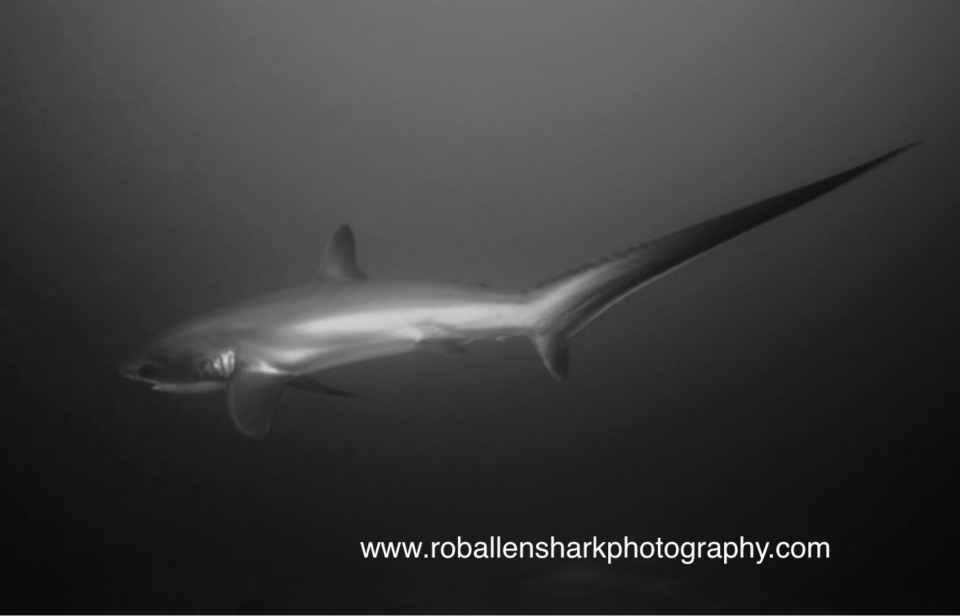shark: (86, 124, 928, 443)
